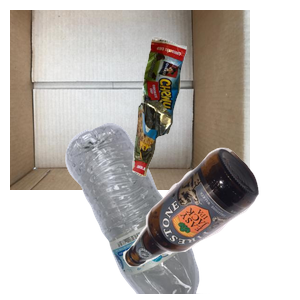cardboard: (10, 10, 250, 190)
glass: (120, 145, 300, 300)
plastic: (63, 120, 263, 300)
trash: (130, 34, 300, 203)
